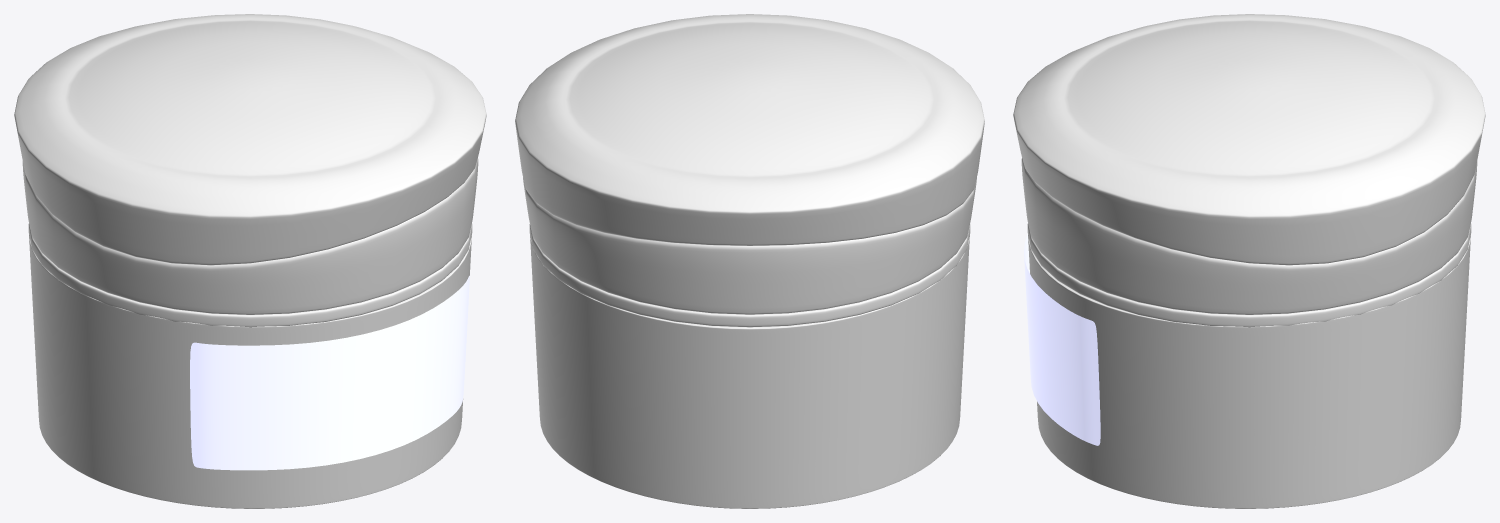
File: cream_1k.glb
3 views of the same model, side by side, from view 1: azimuth 30°, elevation 25°; view 2: azimuth 150°, elevation 25°; view 3: azimuth 270°, elevation 25° (orthographic).
Parts seen in each view (by area): view 1: Circle.004_7, Circle_5, Circle.003_6; view 2: Circle.004_7, Circle_5; view 3: Circle.004_7, Circle_5, Circle.003_6.
Boxes of the visible parts, left/top/right/bottom form: Circle.004_7: left=14, top=14, right=486, bottom=327; Circle_5: left=29, top=235, right=471, bottom=508; Circle.003_6: left=190, top=276, right=469, bottom=470; Circle.004_7: left=515, top=14, right=984, bottom=327; Circle_5: left=530, top=235, right=969, bottom=508; Circle.004_7: left=1013, top=14, right=1485, bottom=327; Circle_5: left=1028, top=235, right=1470, bottom=508; Circle.003_6: left=1024, top=234, right=1100, bottom=445.
Bounding box in the file's own units: 0.0496 × 0.0402 × 0.0496.
Materials: 6 (1 with a texture image).
